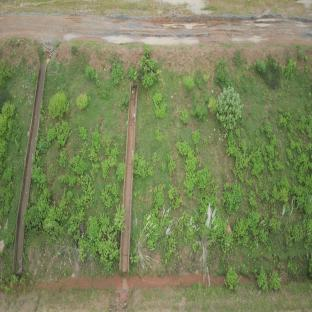slope_drain: (12, 61, 51, 277), (120, 80, 138, 275)
toe_drain: (0, 262, 311, 296)
